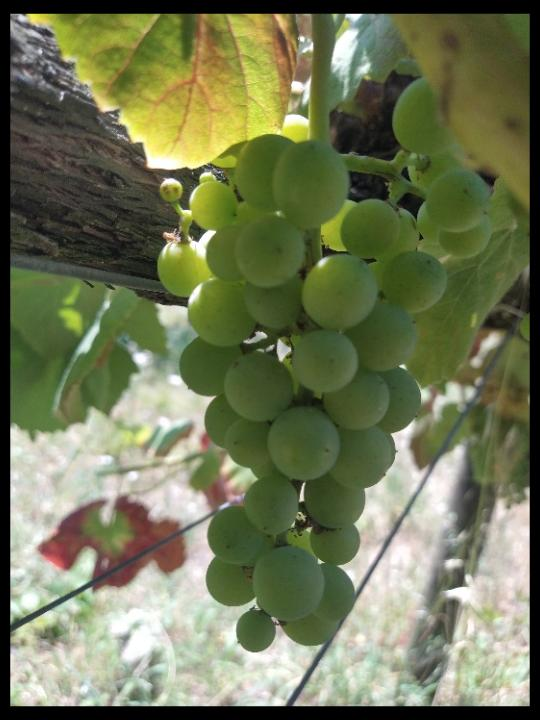grape: (155, 75, 493, 653)
